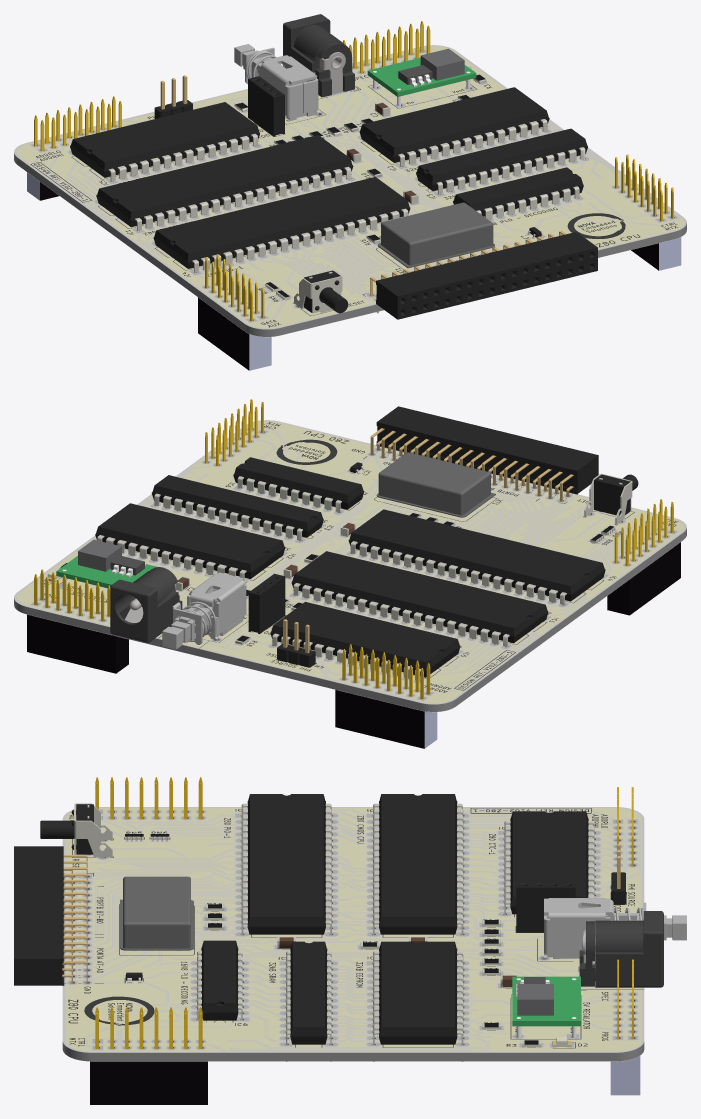
3 renders of one model, top to bottom at view 1: azimuth 30°, elevation 25°; view 2: azimuth 150°, elevation 25°; view 3: azimuth 270°, elevation 25°, orthographic. The views are drawn at different scales.
Visible parts, largest first — view 1: J6, =>[0:1:1:38], =>[0:1:1:33], R16, JA33, =>[0:1:1:40], XT1, =>[0:1:1:34], PL1, SW2, =>[0:1:1:36], module-pcb (+1 smaller); view 2: J6, =>[0:1:1:38], JA33, =>[0:1:1:33], R16, =>[0:1:1:40], XT1, =>[0:1:1:34], SW2, PL1, =>[0:1:1:36], module-pcb (+1 smaller); view 3: =>[0:1:1:38], J6, =>[0:1:1:33], R16, JA33, =>[0:1:1:34], =>[0:1:1:40], PL1, XT1, =>[0:1:1:36], SW2, module-pcb (+1 smaller).
Part boxes in pixels (left/top/right/bottom): J6: left=70, top=70, right=597, bottom=319; =>[0:1:1:38]: left=14, top=45, right=686, bottom=337; =>[0:1:1:33]: left=17, top=47, right=683, bottom=327; R16: left=108, top=63, right=585, bottom=313; JA33: left=27, top=21, right=681, bottom=370; =>[0:1:1:40]: left=14, top=46, right=686, bottom=336; XT1: left=377, top=202, right=494, bottom=268; =>[0:1:1:34]: left=30, top=49, right=677, bottom=322; PL1: left=283, top=14, right=354, bottom=97; SW2: left=234, top=44, right=318, bottom=121; =>[0:1:1:36]: left=30, top=75, right=678, bottom=327; module-pcb: left=367, top=57, right=476, bottom=96; J6: left=48, top=406, right=638, bottom=677; =>[0:1:1:38]: left=14, top=420, right=686, bottom=712; JA33: left=27, top=399, right=680, bottom=748; =>[0:1:1:33]: left=17, top=422, right=683, bottom=702; R16: left=47, top=466, right=632, bottom=681; =>[0:1:1:40]: left=14, top=421, right=686, bottom=711; XT1: left=376, top=452, right=495, bottom=517; =>[0:1:1:34]: left=30, top=428, right=677, bottom=700; SW2: left=162, top=572, right=247, bottom=649; PL1: left=110, top=567, right=182, bottom=642; =>[0:1:1:36]: left=44, top=421, right=678, bottom=692; module-pcb: left=56, top=556, right=157, bottom=588; =>[0:1:1:38]: left=62, top=807, right=644, bottom=1061; J6: left=14, top=794, right=625, bottom=1047; =>[0:1:1:33]: left=66, top=808, right=640, bottom=1050; R16: left=74, top=803, right=594, bottom=1061; JA33: left=90, top=777, right=640, bottom=1104; =>[0:1:1:34]: left=67, top=809, right=637, bottom=1049; =>[0:1:1:40]: left=62, top=807, right=644, bottom=1061; PL1: left=579, top=911, right=663, bottom=987; XT1: left=120, top=876, right=193, bottom=950; =>[0:1:1:36]: left=63, top=808, right=643, bottom=1048; SW2: left=544, top=898, right=686, bottom=959; module-pcb: left=512, top=976, right=580, bottom=1026.
Bounding box in the file's own units: 0.1 × 0.0211 × 0.1157.
